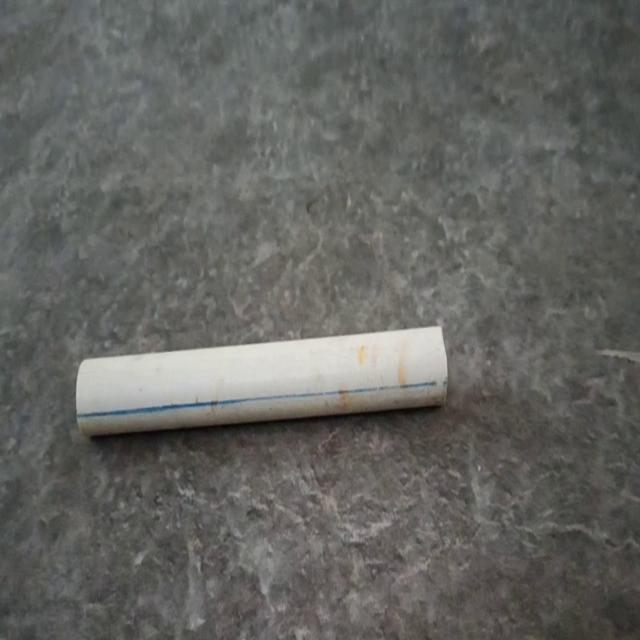Cube: (75, 323, 449, 437)
